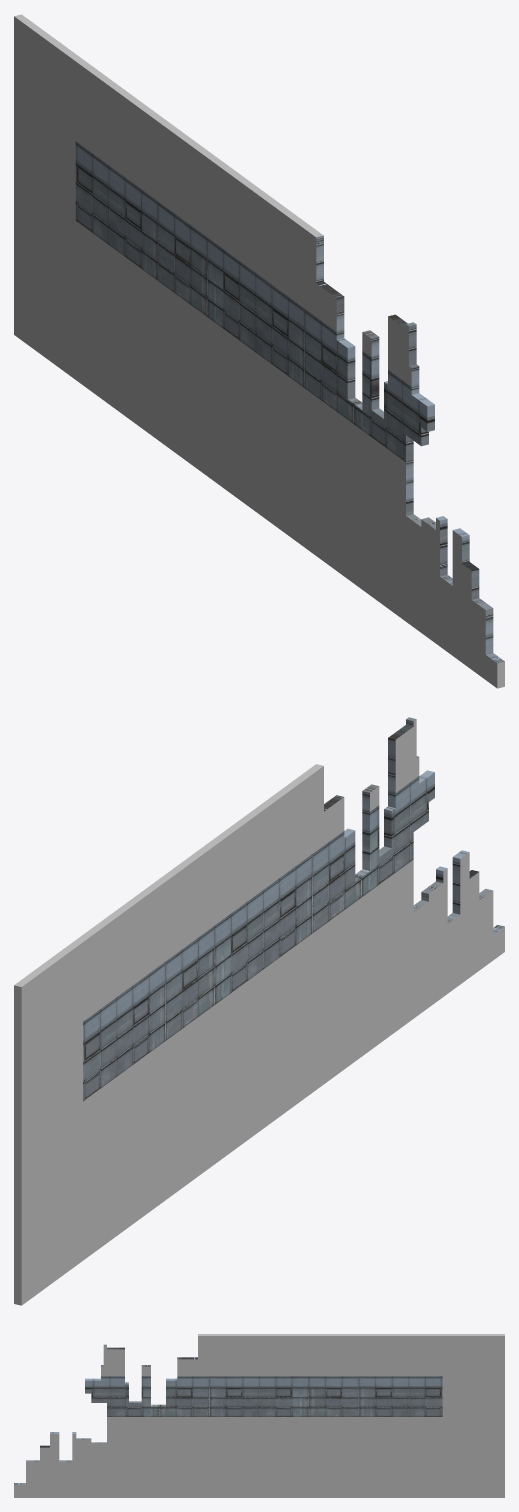
File: Wall_Window_Destroyed.fbx
The picture shows the model from 3 angles, top to bottom: view 1: azimuth 30°, elevation 25°; view 2: azimuth 150°, elevation 25°; view 3: azimuth 270°, elevation 25°; orthographic projection. The views are drawn at different scales.
Visible parts, largest first — view 1: Wall_with_Window1; view 2: Wall_with_Window1; view 3: Wall_with_Window1.
Boxes of the visible parts, x1=… form: Wall_with_Window1: x1=14, y1=14, x2=504, y2=688; Wall_with_Window1: x1=14, y1=717, x2=504, y2=1305; Wall_with_Window1: x1=14, y1=1334, x2=504, y2=1497.
Bounding box in the file's own units: 0.5021 × 20 × 55.
